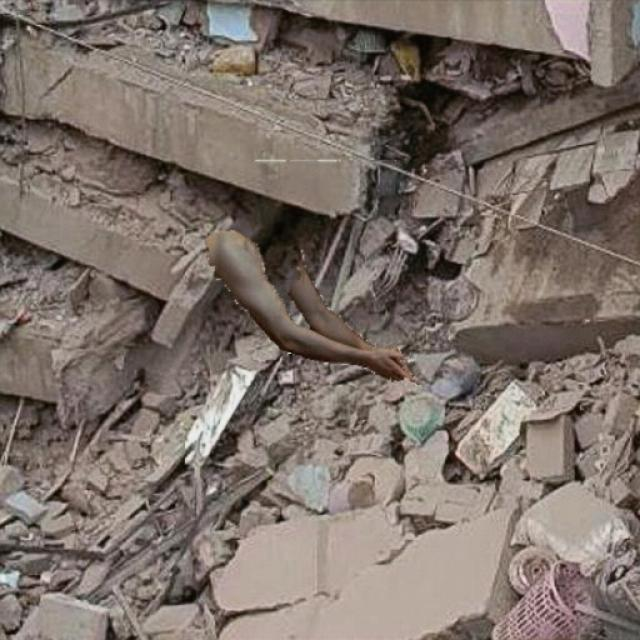Person in Rubble: (205, 160, 421, 384)
